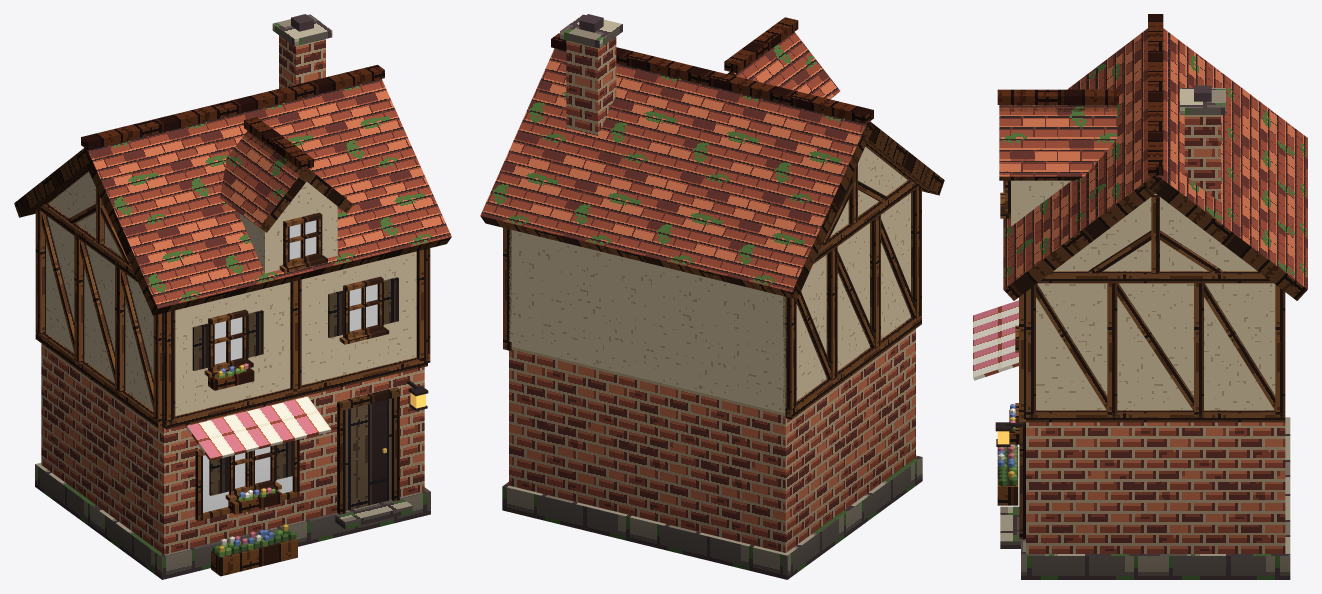
The model's file is cottage_shop.glb.
The picture shows the model from 3 angles, left to right: view 1: azimuth 30°, elevation 25°; view 2: azimuth 150°, elevation 25°; view 3: azimuth 270°, elevation 25°; orthographic projection. The views are drawn at different scales.
Visible parts, largest first — view 1: cottage_shop; view 2: cottage_shop; view 3: cottage_shop.
Part boxes in pixels (x1,y1,x2,y2): cottage_shop: [14, 14, 451, 579]; cottage_shop: [480, 14, 944, 579]; cottage_shop: [973, 14, 1307, 579].
Size of the model in its own units: 6.14 by 8.77 by 5.67.
Materials: 9 (6 with a texture image).
